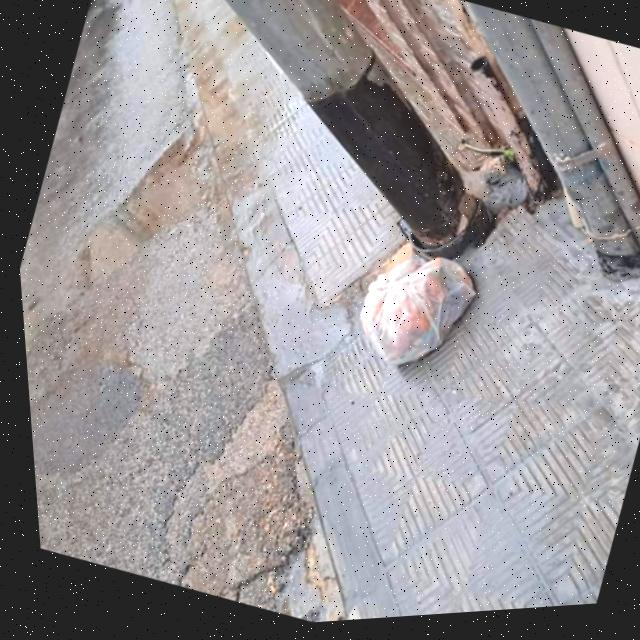Organic Waste -White Bag-: (339, 240, 489, 392)
